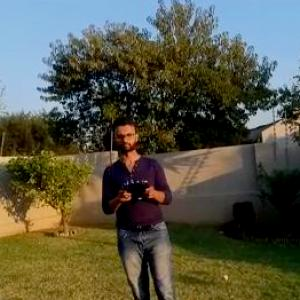follow: (96, 111, 186, 299)
